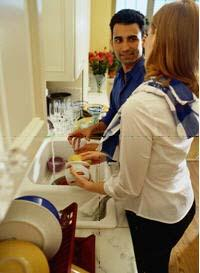person: (70, 2, 199, 273)
